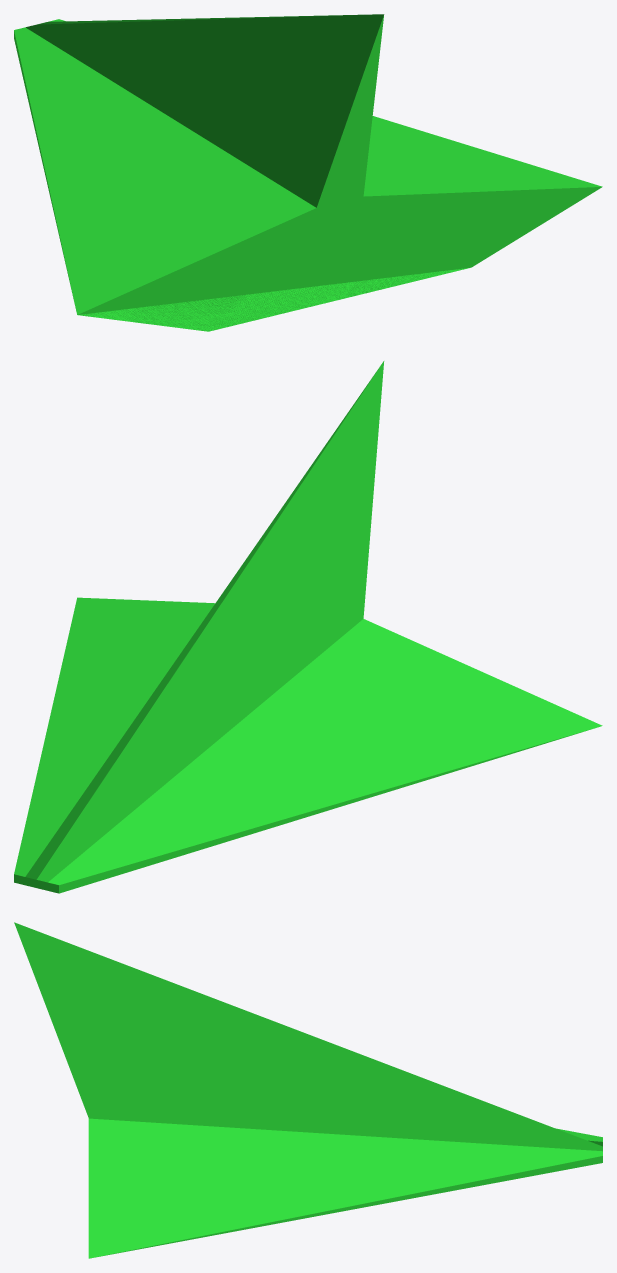
The model's file is spaceship.glb.
3 views of the same model, one above another, from view 1: azimuth 30°, elevation 25°; view 2: azimuth 150°, elevation 25°; view 3: azimuth 270°, elevation 25° (orthographic). The views are drawn at different scales.
Visible parts, largest first — view 1: Spaceship; view 2: Spaceship; view 3: Spaceship.
Boxes of the visible parts, x1,y1,x2,y2 form: Spaceship: (14,14,602,331); Spaceship: (14,361,602,893); Spaceship: (14,922,602,1258).
Size of the model in its own units: 2 by 1.16 by 2.29.
